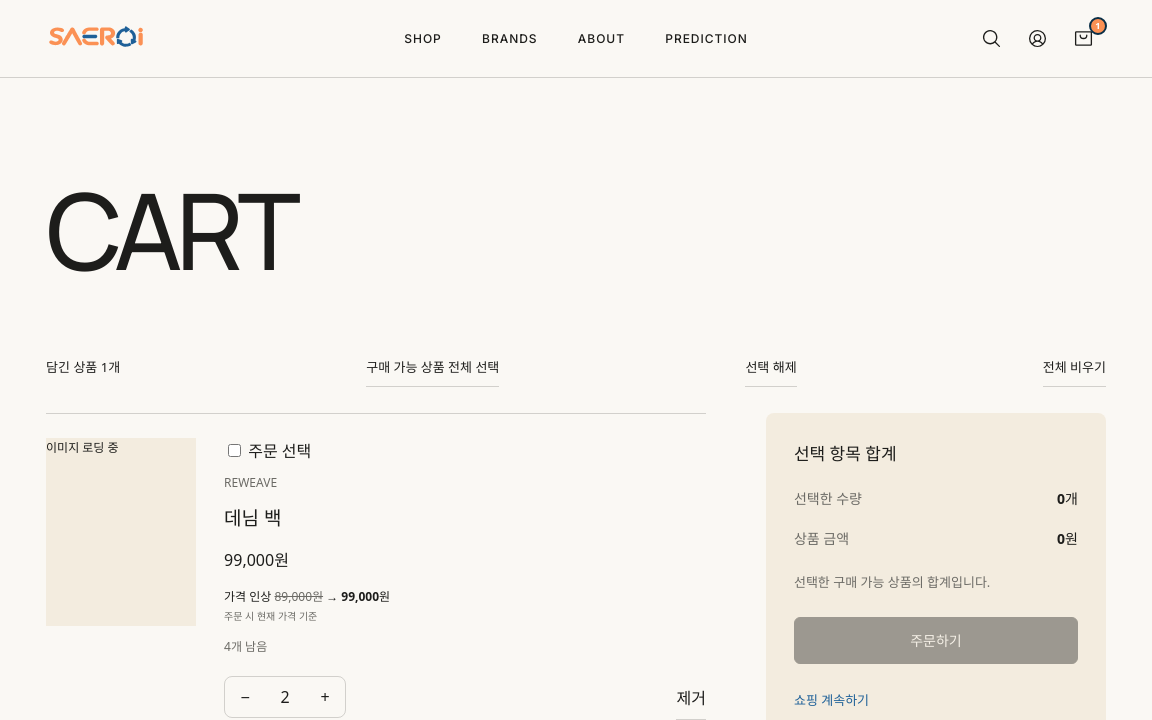
Scenario: consumer cart › sets quantity via PATCH and immediately updates totals without re-querying
Click the checkbox named "데님 백 주문 선택" at x=235, y=451, box [228,444,241,458]
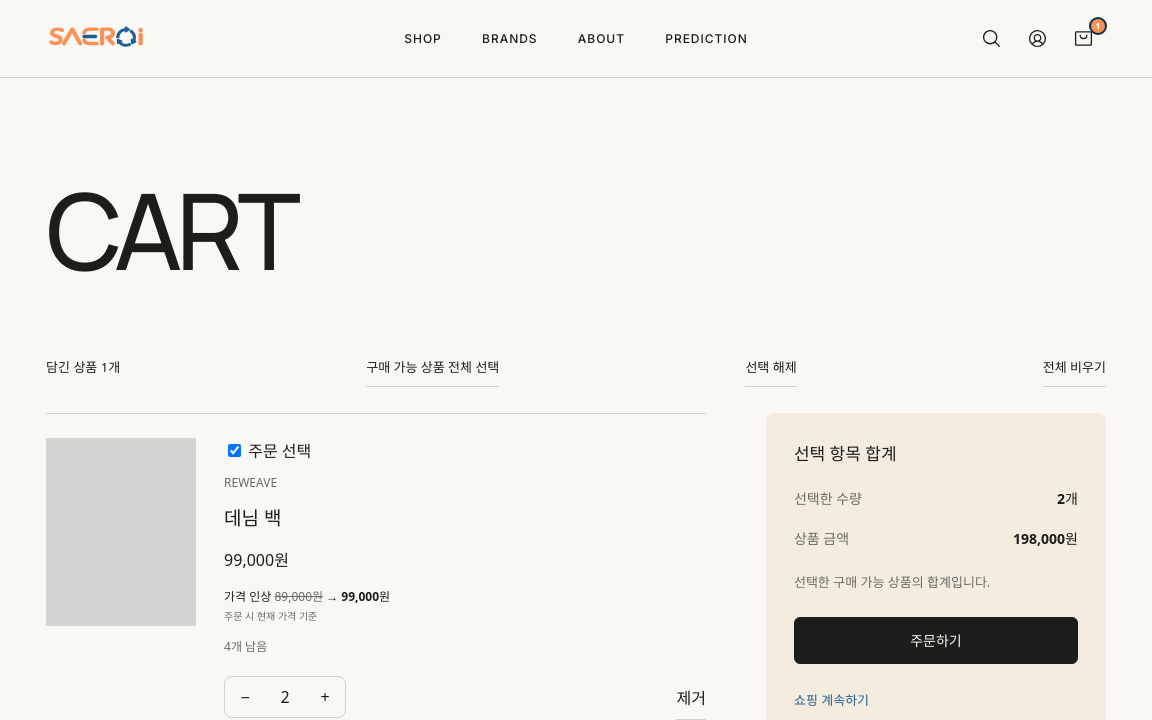
Click the button named "데님 백 수량 늘리기" at x=325, y=697, box [305,677,345,717]
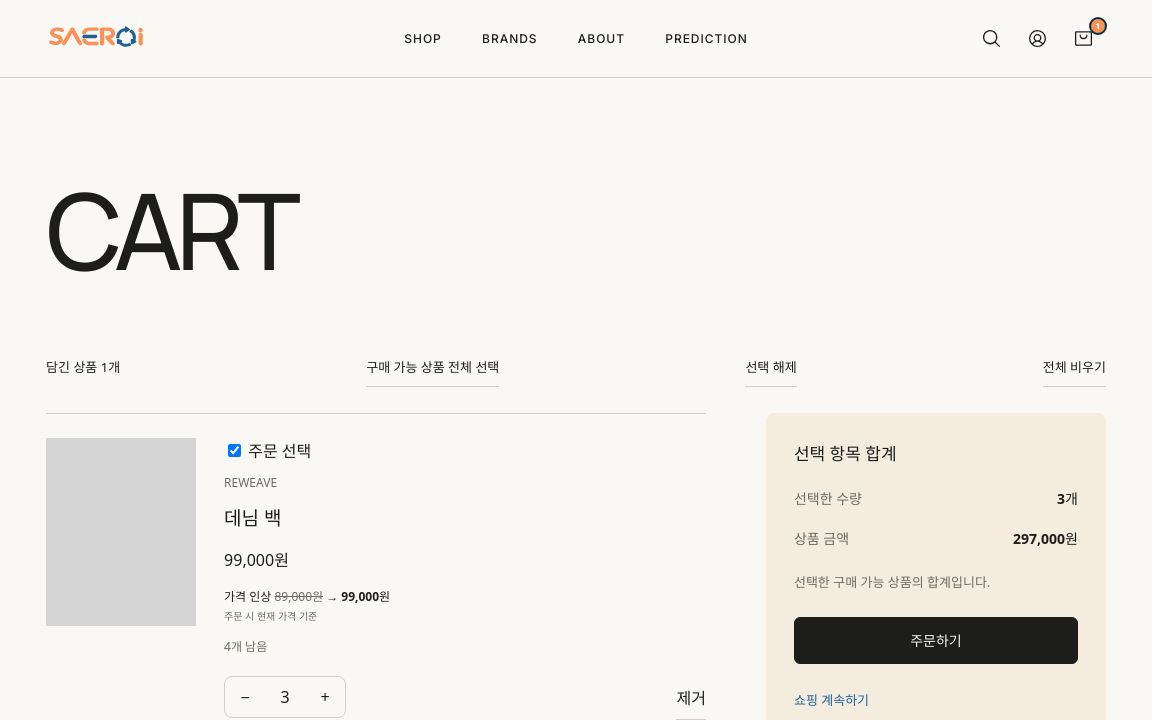
expect the text named "데님 백 수량 값" reads "3": met, box [280,686,290,708]
expect the text "297,000원" is shown: met, box [1013,527,1078,551]
